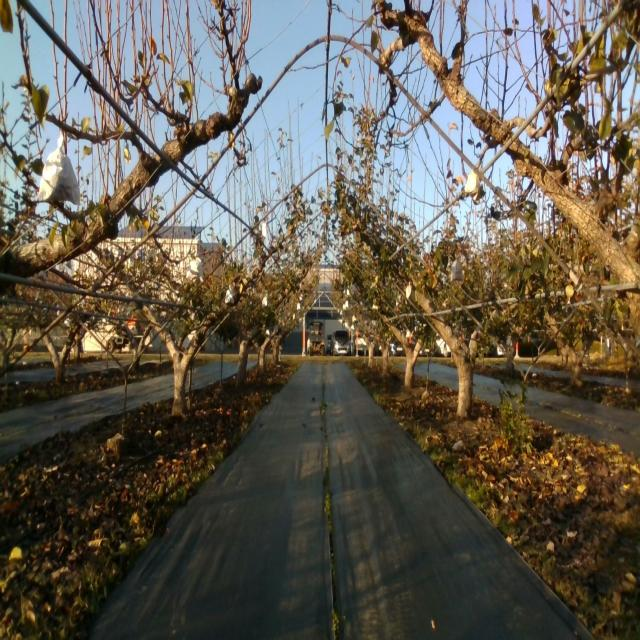pearbags: (38, 133, 80, 203), (464, 169, 480, 203), (184, 256, 202, 284), (451, 259, 464, 284)
